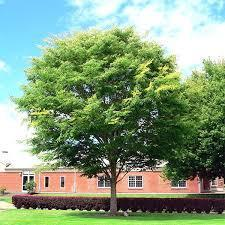tree: (13, 23, 188, 209)
